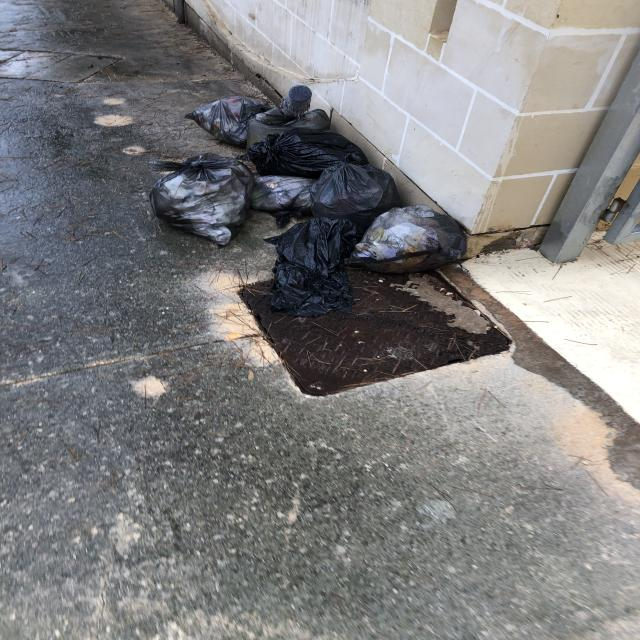Mixed Waste -Black Bag-: (150, 156, 254, 247), (273, 218, 362, 316), (352, 208, 470, 275), (312, 166, 404, 233), (244, 131, 372, 176), (189, 97, 270, 148), (252, 174, 317, 219)
Other: (253, 86, 337, 138)
